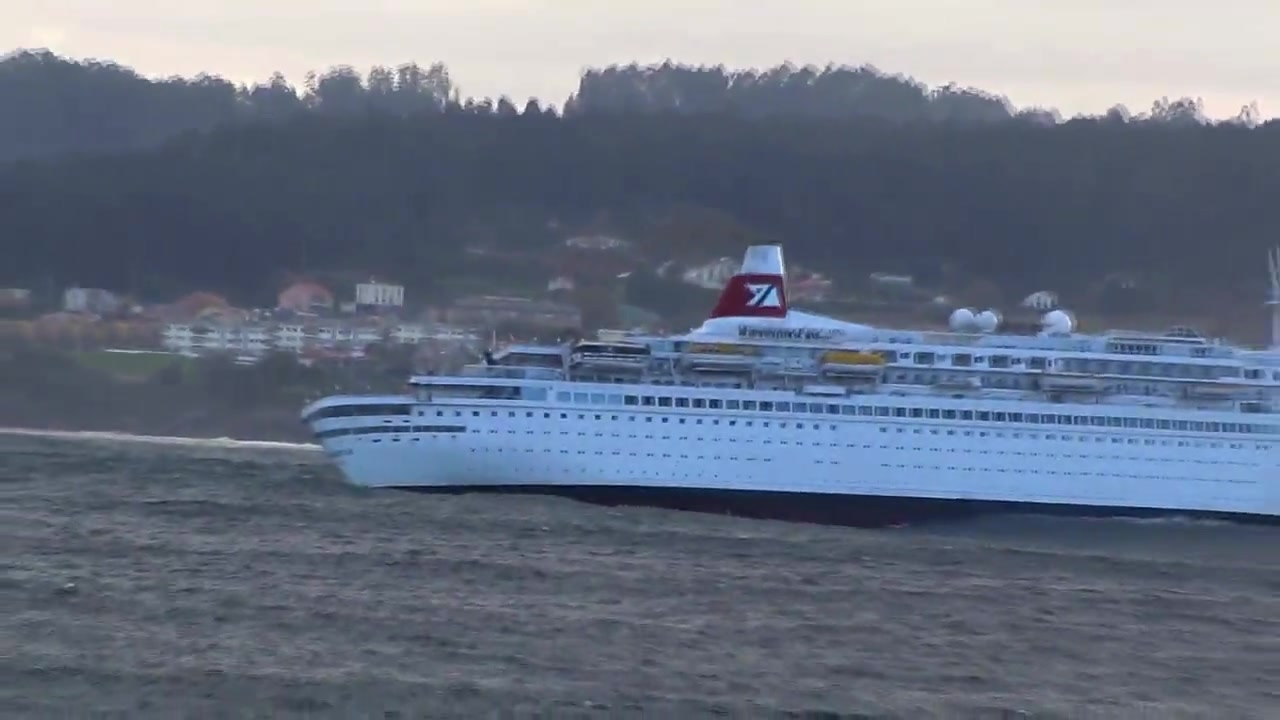boat: (295, 240, 1280, 529)
